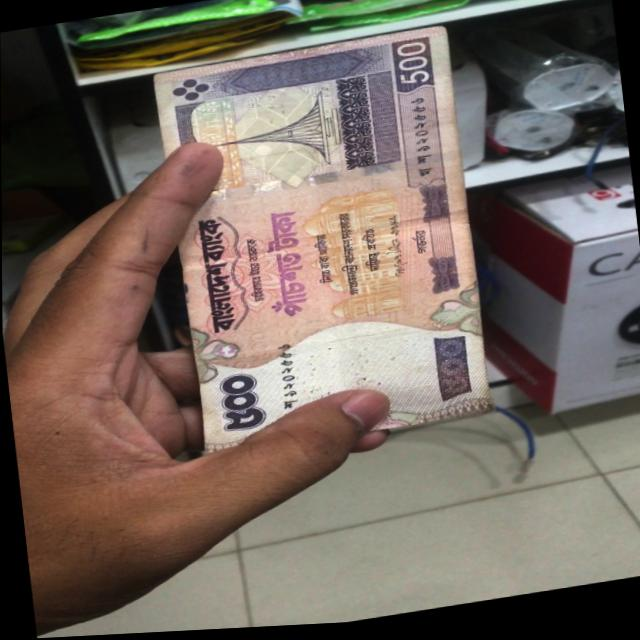Taka: (140, 29, 494, 458)
